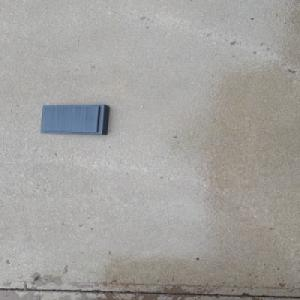PlasticPart: (39, 103, 110, 135)
